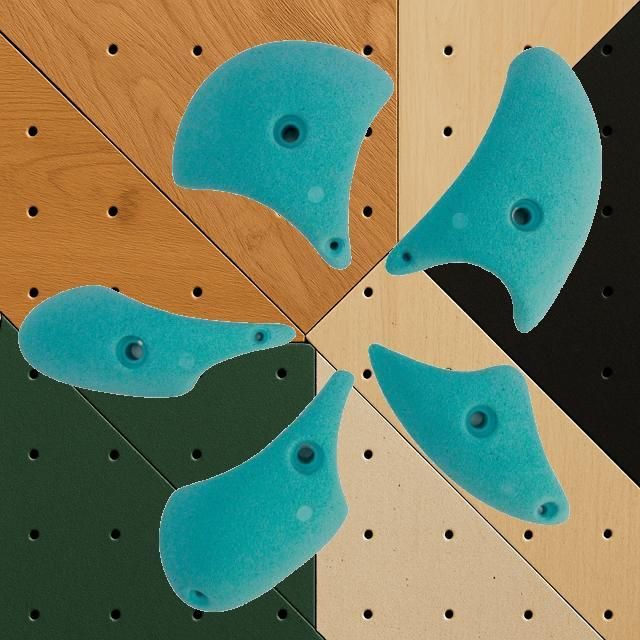Jug: (384, 45, 604, 333), (170, 38, 394, 270), (158, 368, 354, 612), (368, 342, 570, 526), (17, 284, 296, 398)
